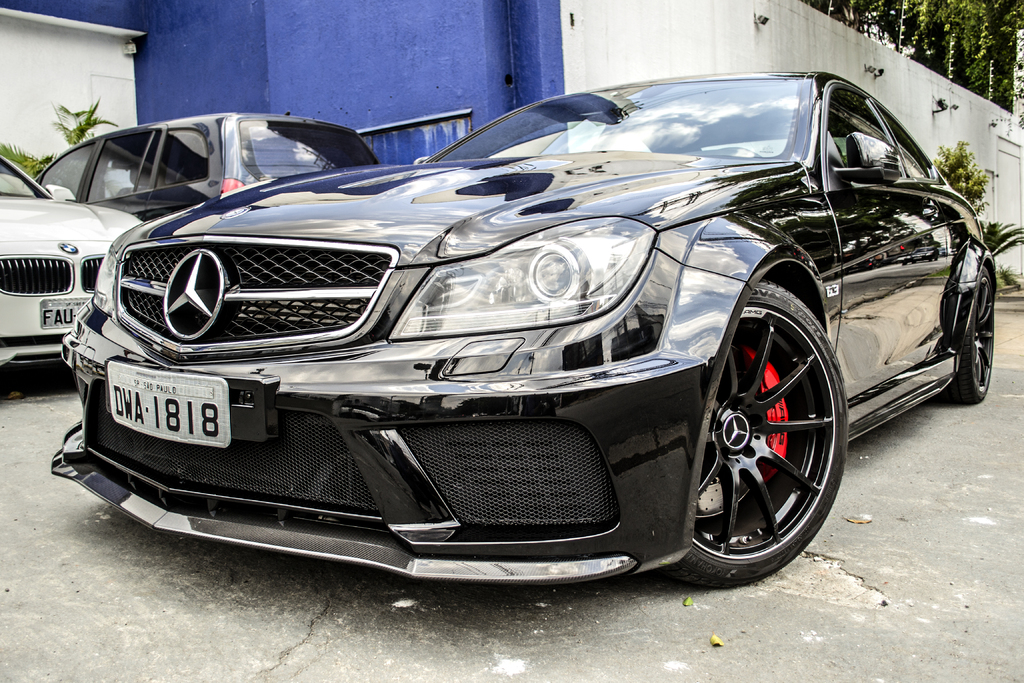Tree: (797, 0, 1024, 137)
